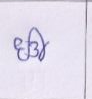i_matra: (30, 27, 49, 61)
